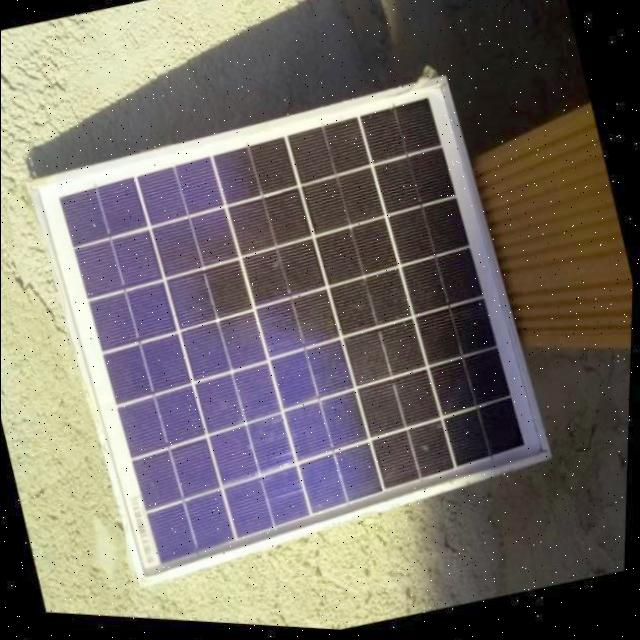Normal Solar Panel: (22, 62, 576, 616)
